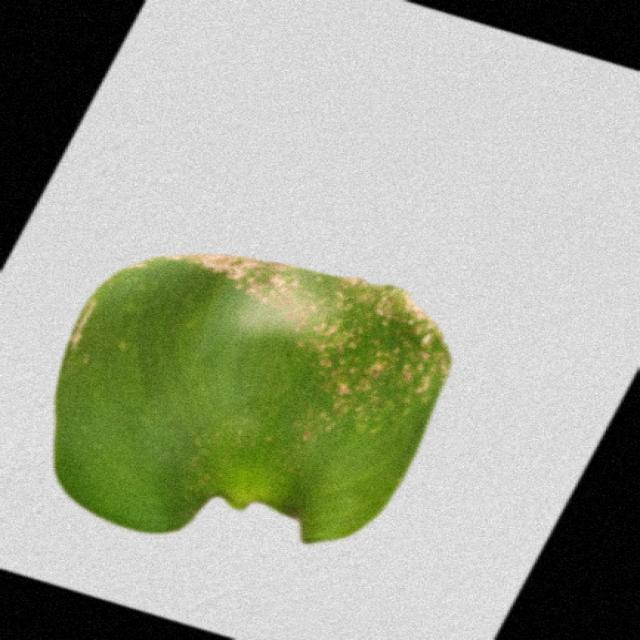daun berpenyakit bercak: (57, 255, 450, 542)
